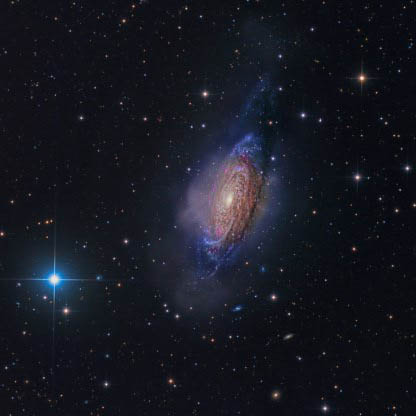NGC 3521: (120, 88, 309, 302)
